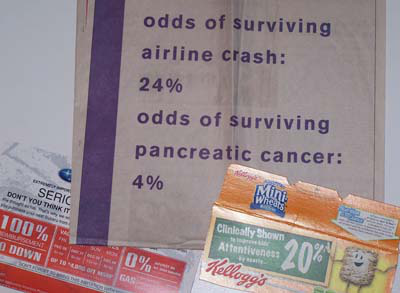latin: (133, 109, 343, 166), (139, 13, 333, 68)
